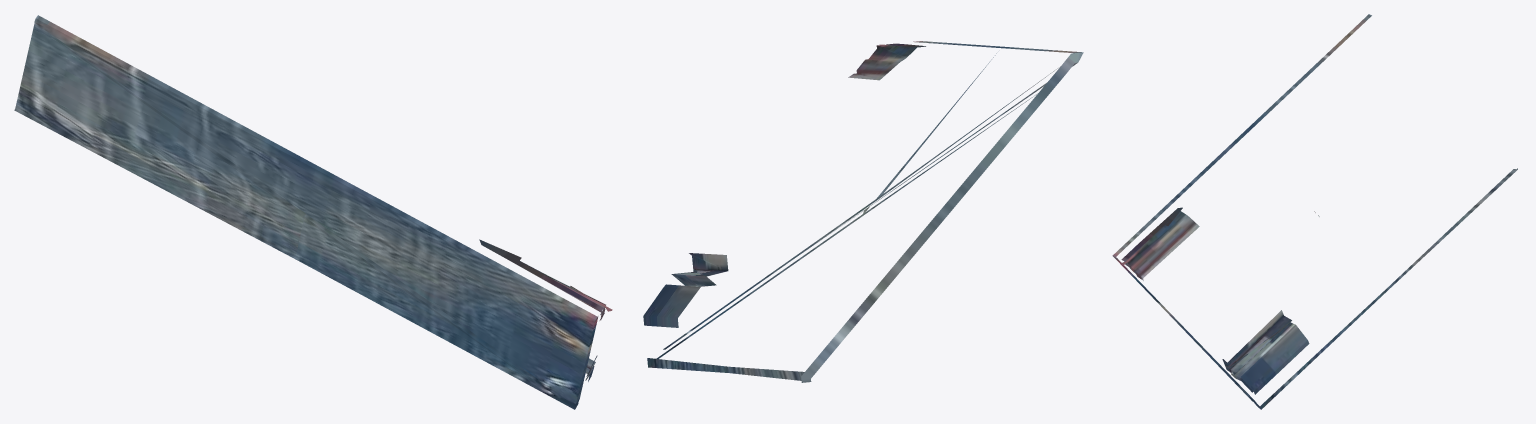
File: masp_tile_9.glb
The picture shows the model from 3 angles, left to right: view 1: azimuth 30°, elevation 25°; view 2: azimuth 150°, elevation 25°; view 3: azimuth 270°, elevation 25°; orthographic projection. The views are drawn at different scales.
Size of the model in its own units: 30.41 by 27.54 by 38.77.
1 material, 1 textured.
